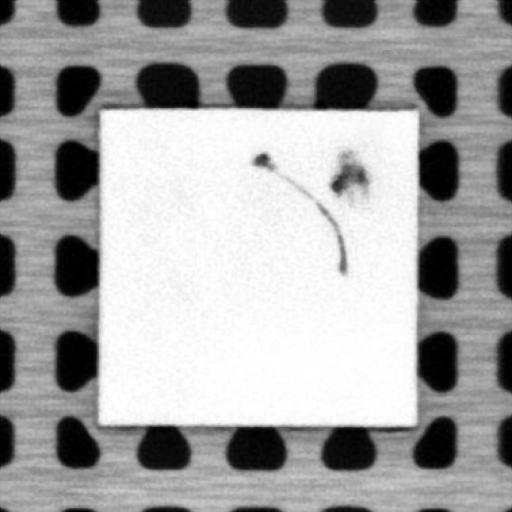DIE_INK: (255, 150, 348, 274), (328, 154, 368, 196)
